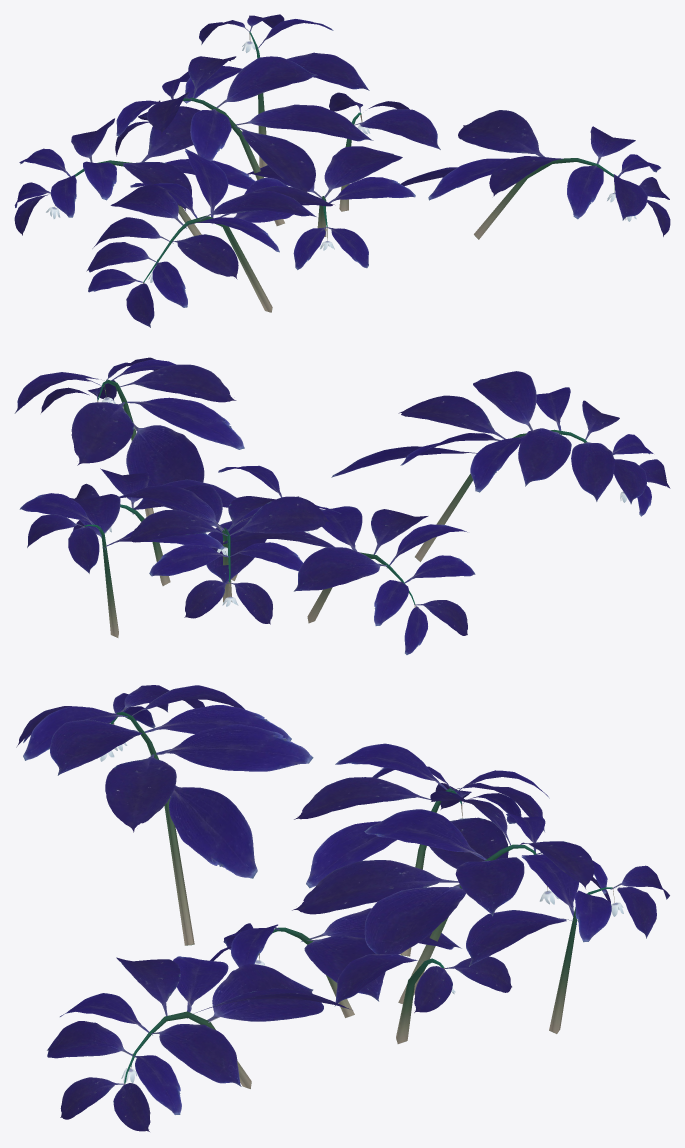
3 views of the same model, one above another, from view 1: azimuth 30°, elevation 25°; view 2: azimuth 150°, elevation 25°; view 3: azimuth 270°, elevation 25° (orthographic). The views are drawn at different scales.
Parts seen in each view (by area): view 1: SM_FH_SolomonsSeal_03_LOD0; view 2: SM_FH_SolomonsSeal_03_LOD0; view 3: SM_FH_SolomonsSeal_03_LOD0.
Boxes of the visible parts, x1,y1,x2,y2 form: SM_FH_SolomonsSeal_03_LOD0: [14, 14, 670, 327]; SM_FH_SolomonsSeal_03_LOD0: [14, 357, 670, 654]; SM_FH_SolomonsSeal_03_LOD0: [16, 685, 669, 1131].
Size of the model in its own units: 1.25 by 0.3145 by 0.9837.
Materials: 1 (1 with a texture image).
